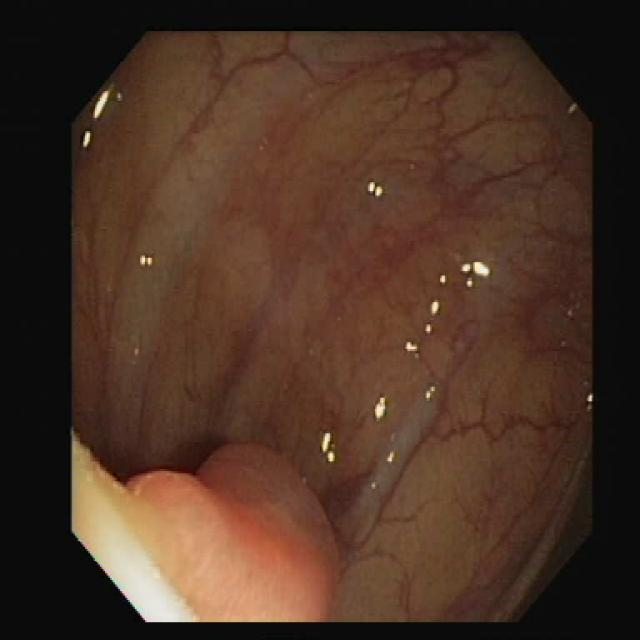tumor: (73, 433, 340, 624)
